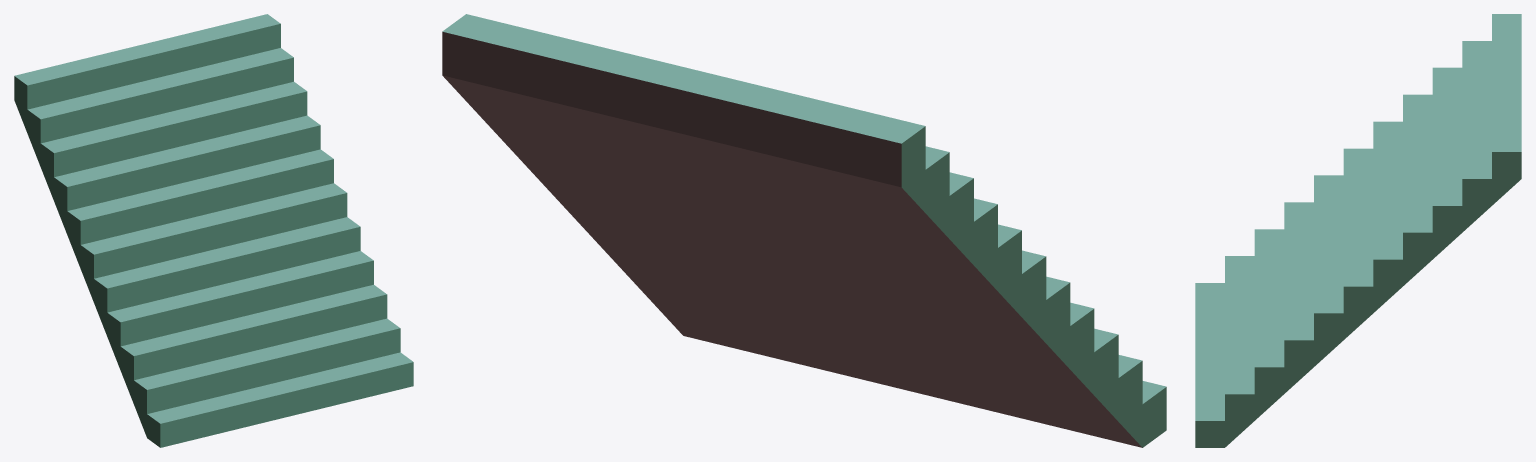
Rendered from SM_Escalier1x1_1.FBX.
3 views of the same model, side by side, from view 1: azimuth 30°, elevation 25°; view 2: azimuth 150°, elevation 25°; view 3: azimuth 270°, elevation 25° (orthographic). The views are drawn at different scales.
Parts seen in each view (by area): view 1: SM_Escalier1x1_1; view 2: SM_Escalier1x1_1; view 3: SM_Escalier1x1_1.
Boxes of the visible parts, x1,y1,x2,y2 form: SM_Escalier1x1_1: (14, 14, 413, 447); SM_Escalier1x1_1: (442, 14, 1166, 447); SM_Escalier1x1_1: (1195, 14, 1521, 447).
Size of the model in its own units: 100 by 99.99 by 99.99.
